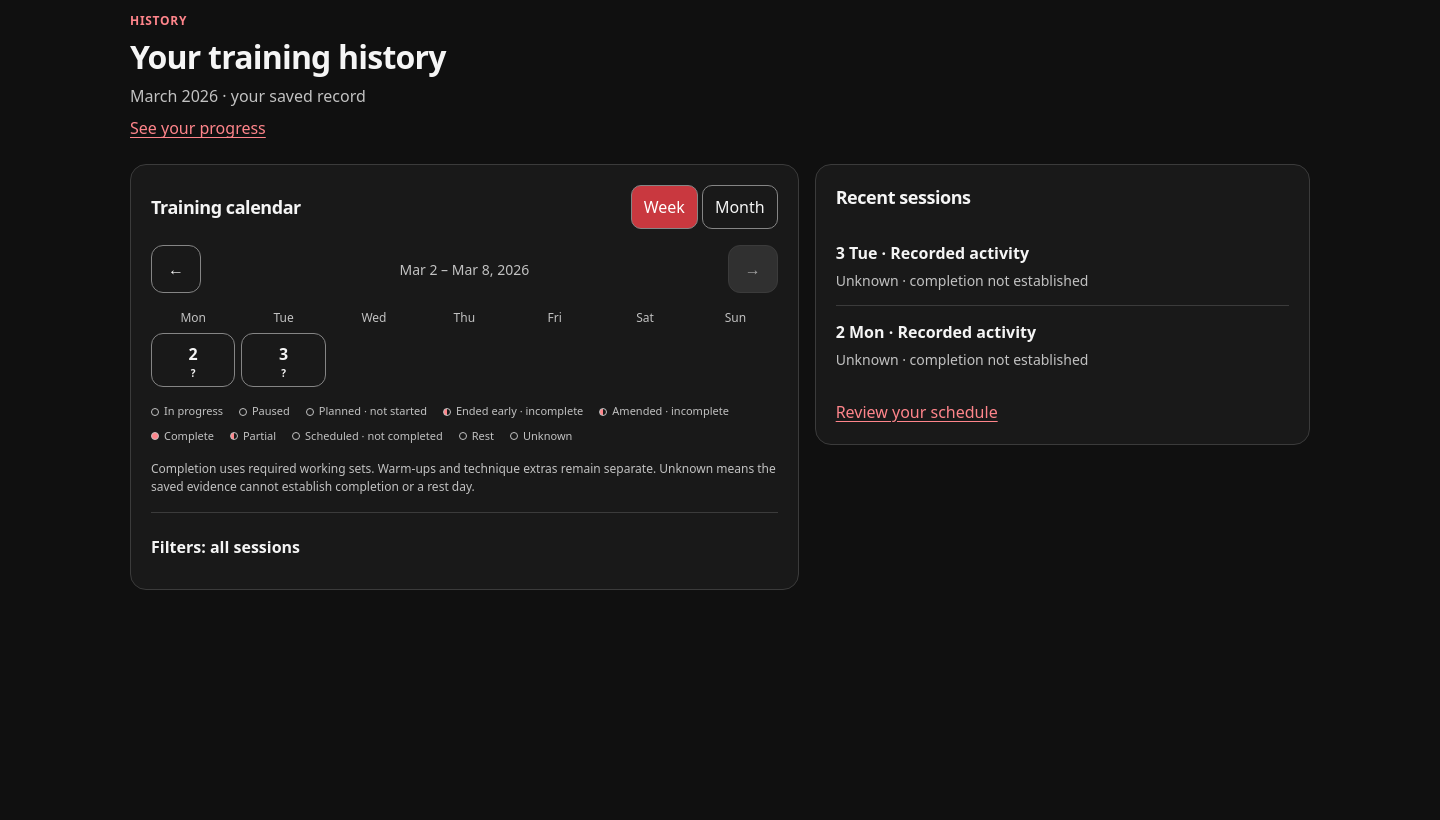
Test: day read failure clears detail and retries the same selected date
Click the button named "2026-03-02: Unknown": (193, 360) [151,333,235,387]
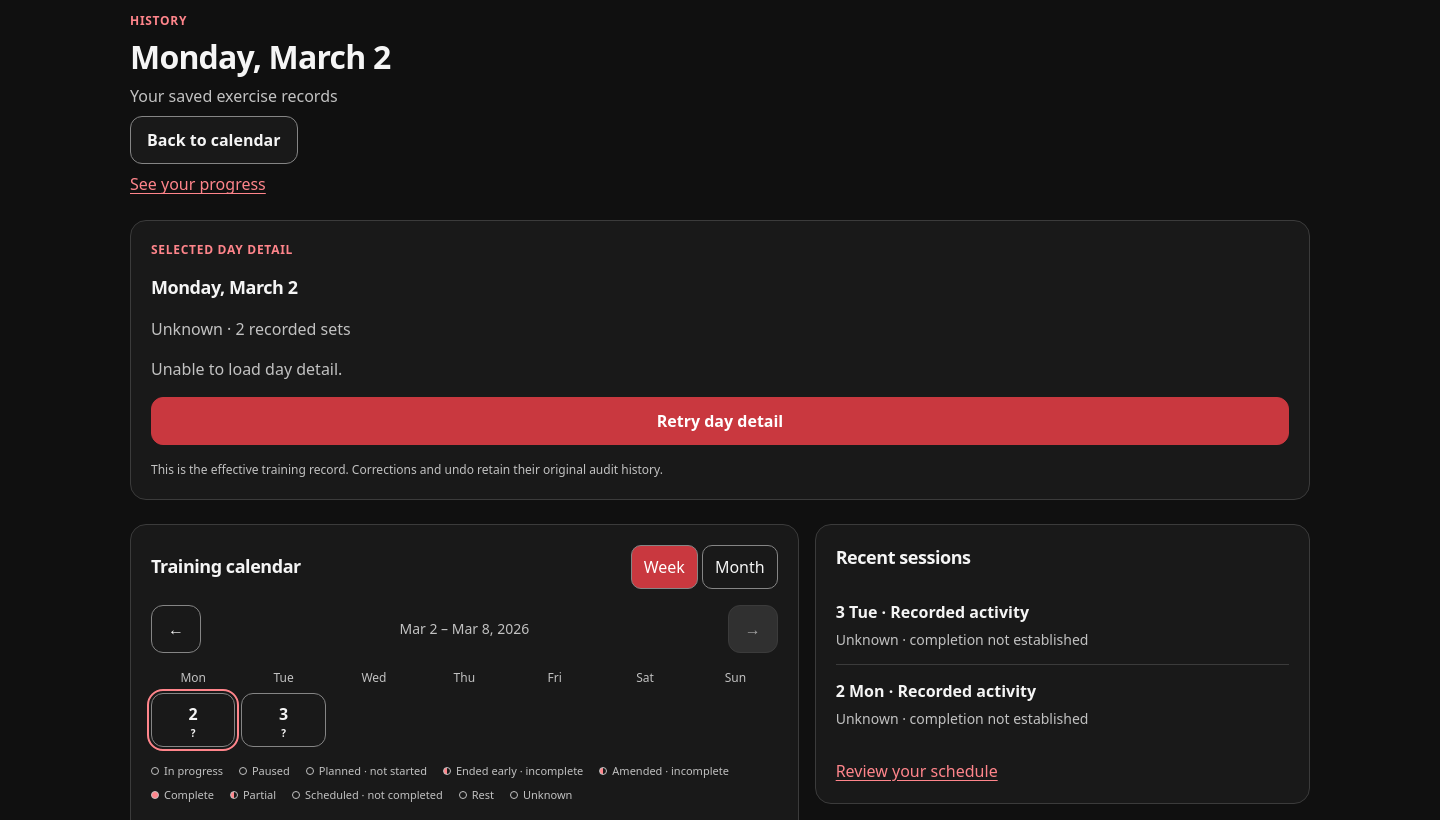
Now the text "Unable to load day detail." is shown, box [151,358,342,380]
Click the button "Retry day detail": (720, 421) [151,397,1289,445]
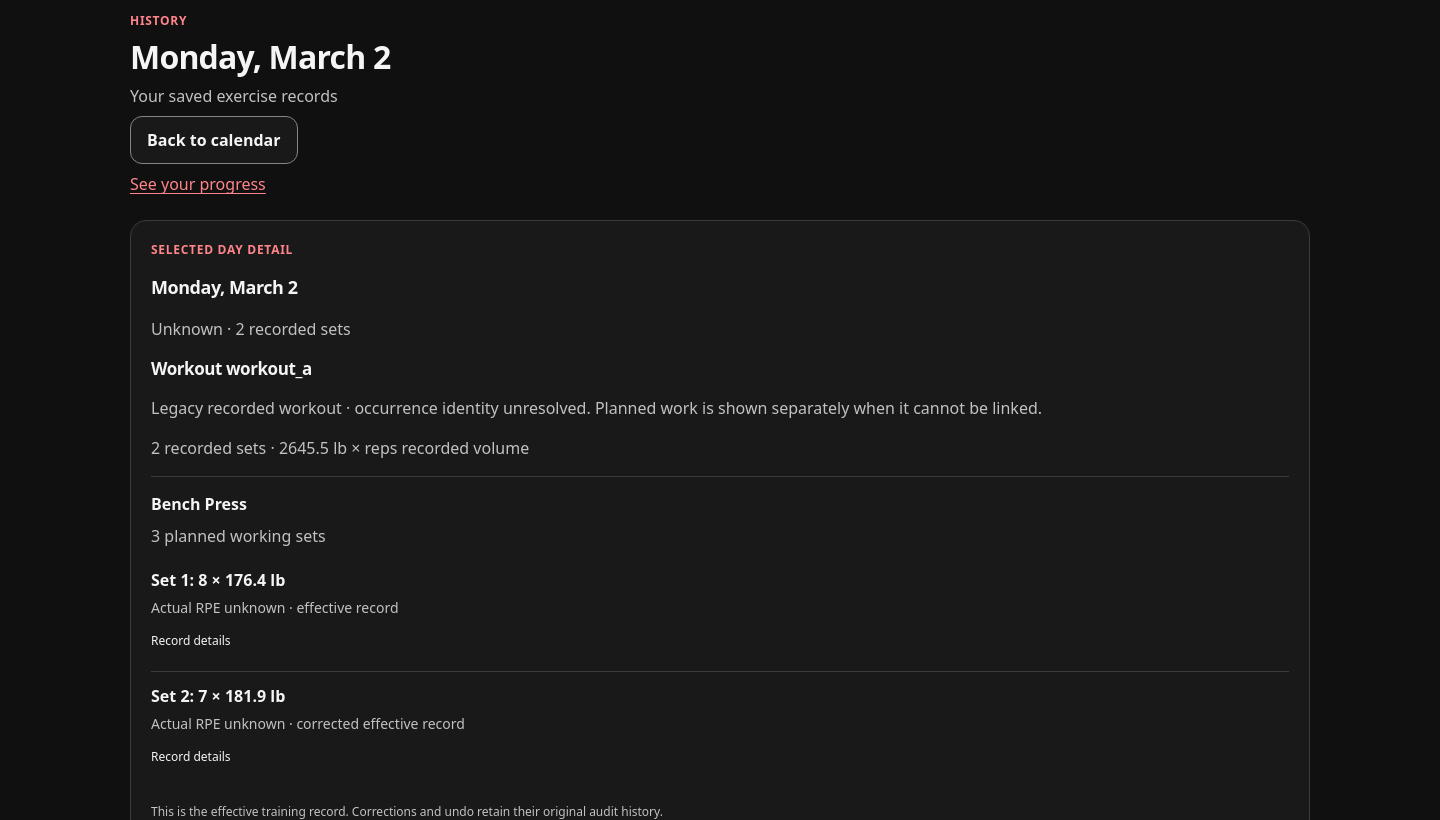
Now the heading "Workout workout_a" is shown, box [151,357,312,380]
